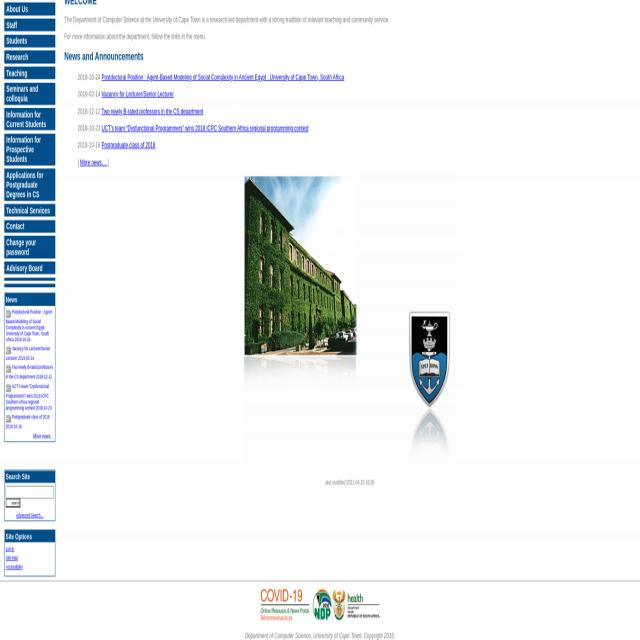button: (244, 174, 456, 462), (250, 586, 388, 621), (5, 134, 56, 165), (5, 169, 56, 200), (5, 82, 56, 105), (5, 235, 56, 258), (5, 108, 56, 130), (4, 528, 56, 542), (5, 34, 56, 47), (4, 471, 55, 484), (5, 50, 56, 63), (5, 66, 56, 79), (5, 2, 56, 15), (5, 204, 56, 216), (5, 220, 56, 232), (5, 19, 56, 31), (5, 262, 56, 274), (5, 294, 56, 306), (6, 498, 20, 507)
field: (6, 486, 54, 499)
